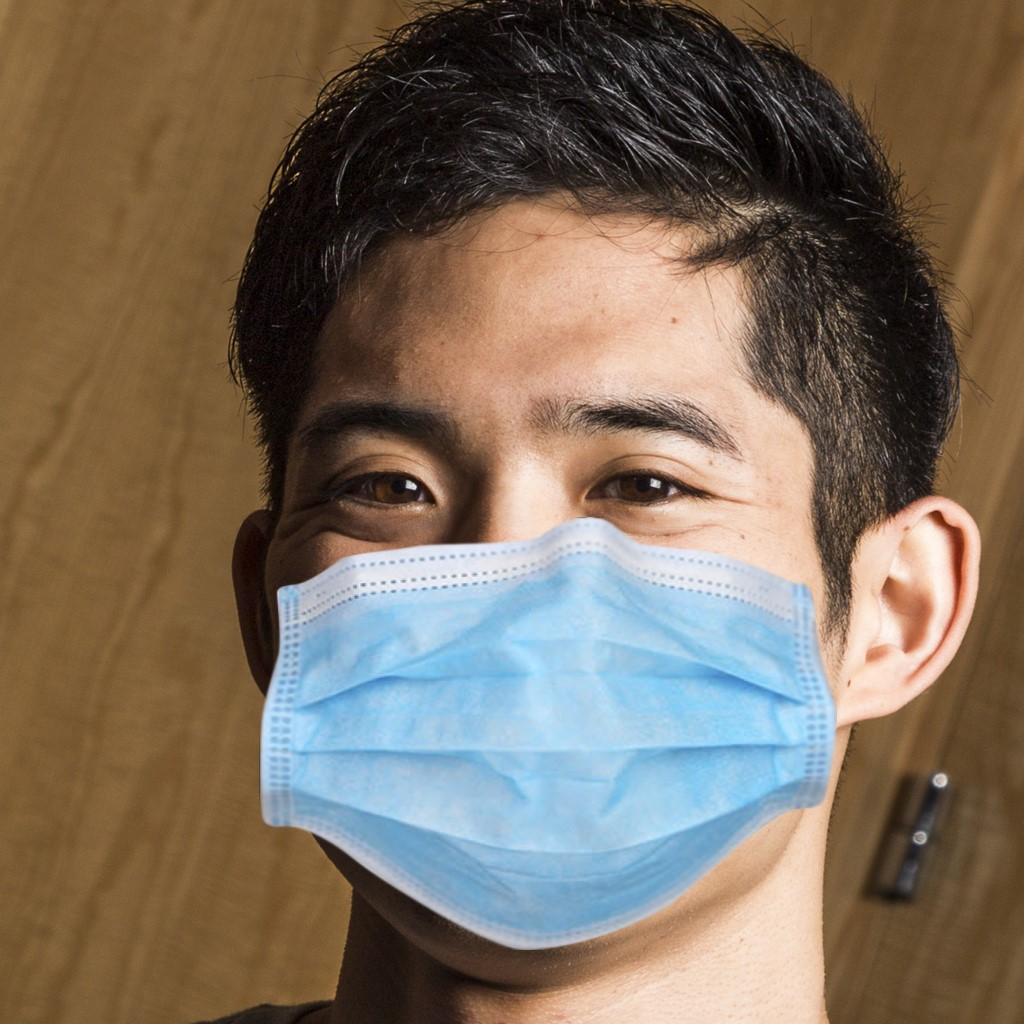con_mascara: (253, 131, 853, 952)
